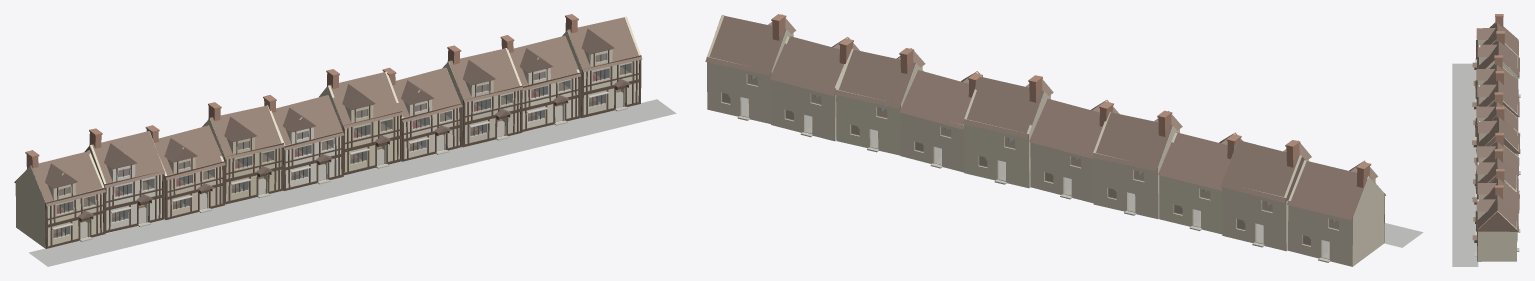
File: tudor-terrace.glb
3 views of the same model, side by side, from view 1: azimuth 30°, elevation 25°; view 2: azimuth 150°, elevation 25°; view 3: azimuth 270°, elevation 25° (orthographic). The views are drawn at different scales.
Parts seen in each view (by area): view 1: Main roof (clay plain tile) (×10), Front wall (street) (×10), Street pavement, Dormer roof (×10), Party/gable wall left; view 2: Main roof (clay plain tile) (×10), Rear wall (×10), Party/gable wall left (×2), Street pavement; view 3: Main roof (clay plain tile) (×10), Street pavement, Dormer roof (×10), Party/gable wall right (×2), Brick chimney stack (×10), Rear wall.
Part boxes in pixels (x1,y1,x2,y2): Main roof (clay plain tile) (×10): (14, 17, 642, 206); Front wall (street) (×10): (44, 60, 639, 248); Street pavement: (29, 99, 676, 266); Dormer roof (×10): (45, 29, 614, 188); Party/gable wall left: (15, 165, 44, 247); Main roof (clay plain tile) (×10): (705, 15, 1385, 220); Rear wall (×10): (707, 57, 1352, 266); Party/gable wall left (×2): (1026, 91, 1384, 266); Street pavement: (1384, 223, 1423, 247); Main roof (clay plain tile) (×10): (1475, 22, 1520, 231); Street pavement: (1452, 63, 1478, 266); Dormer roof (×10): (1476, 28, 1497, 211); Party/gable wall right (×2): (1478, 60, 1516, 261); Brick chimney stack (×10): (1494, 17, 1504, 199); Rear wall: (1515, 221, 1516, 261).
Size of the model in its own units: 74 by 10.17 by 10.52.
